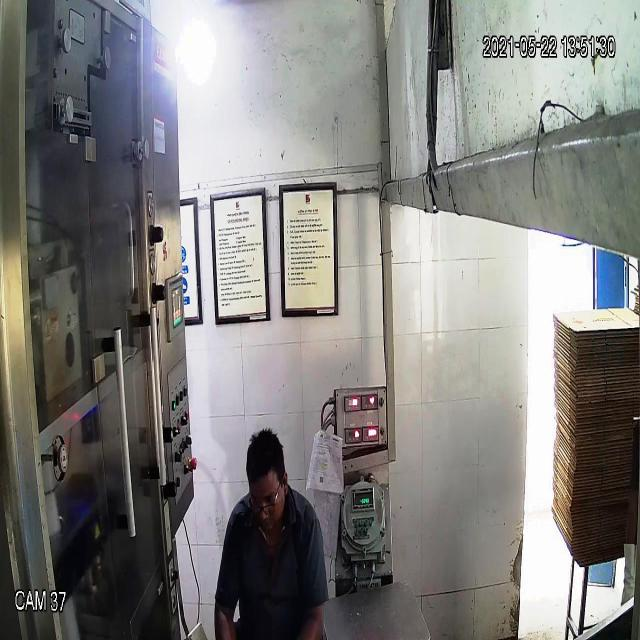glasses: (248, 491, 285, 524)
